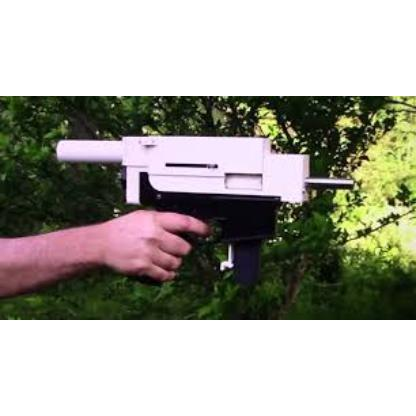gun: (55, 128, 324, 284)
